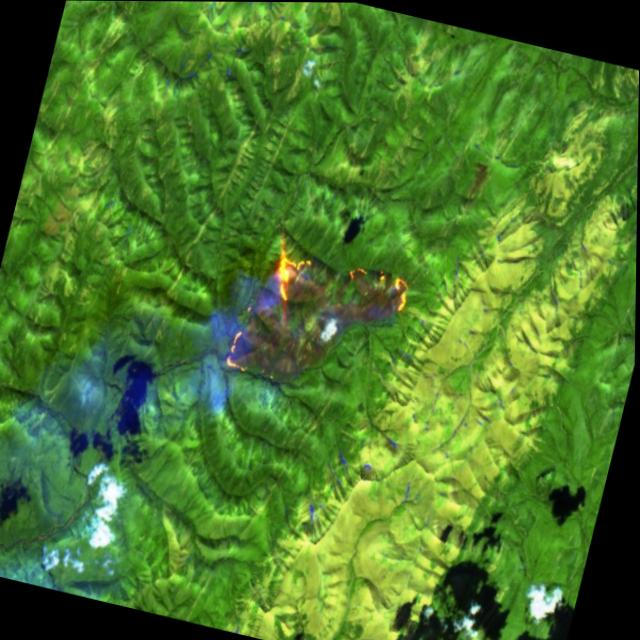fire: (218, 228, 418, 409)
